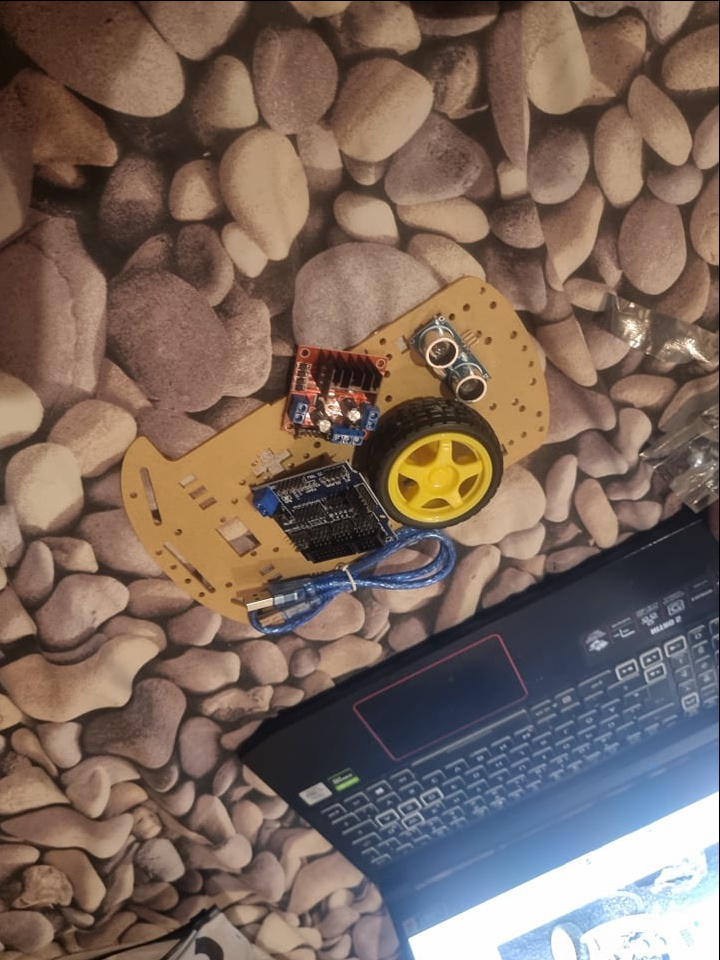5V EXPANSION: (248, 460, 402, 564)
MOTOR: (278, 344, 389, 447)
SENSOR: (413, 313, 496, 408)
